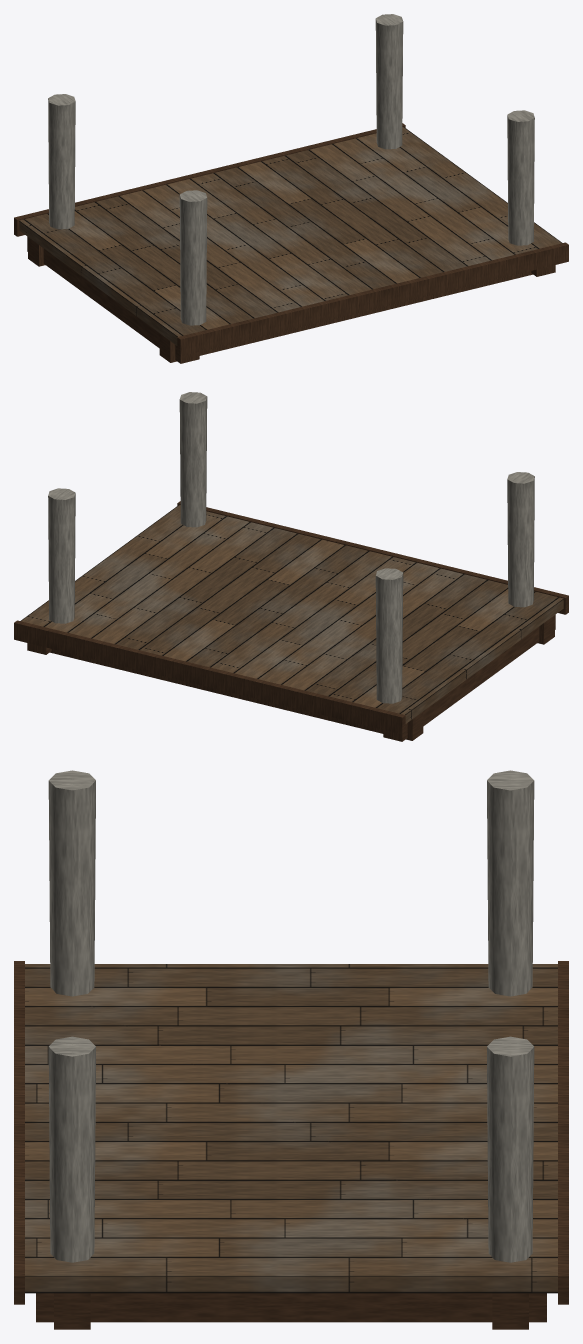
File: SM_Art_Pier_405x300x100_P-125.gltf
3 renders of one model, top to bottom at view 1: azimuth 30°, elevation 25°; view 2: azimuth 150°, elevation 25°; view 3: azimuth 270°, elevation 25°, orthographic. The views are drawn at different scales.
Parts seen in each view (by area): view 1: SM_Art_Pier_405x300x100_P-125; view 2: SM_Art_Pier_405x300x100_P-125; view 3: SM_Art_Pier_405x300x100_P-125.
Boxes of the visible parts, bbox=[...] form: SM_Art_Pier_405x300x100_P-125: bbox=[14, 14, 568, 363]; SM_Art_Pier_405x300x100_P-125: bbox=[14, 392, 568, 741]; SM_Art_Pier_405x300x100_P-125: bbox=[14, 770, 568, 1329].
Bounding box in the file's own units: 4.09 × 1.57 × 3.04.
3 materials, 3 textured.
